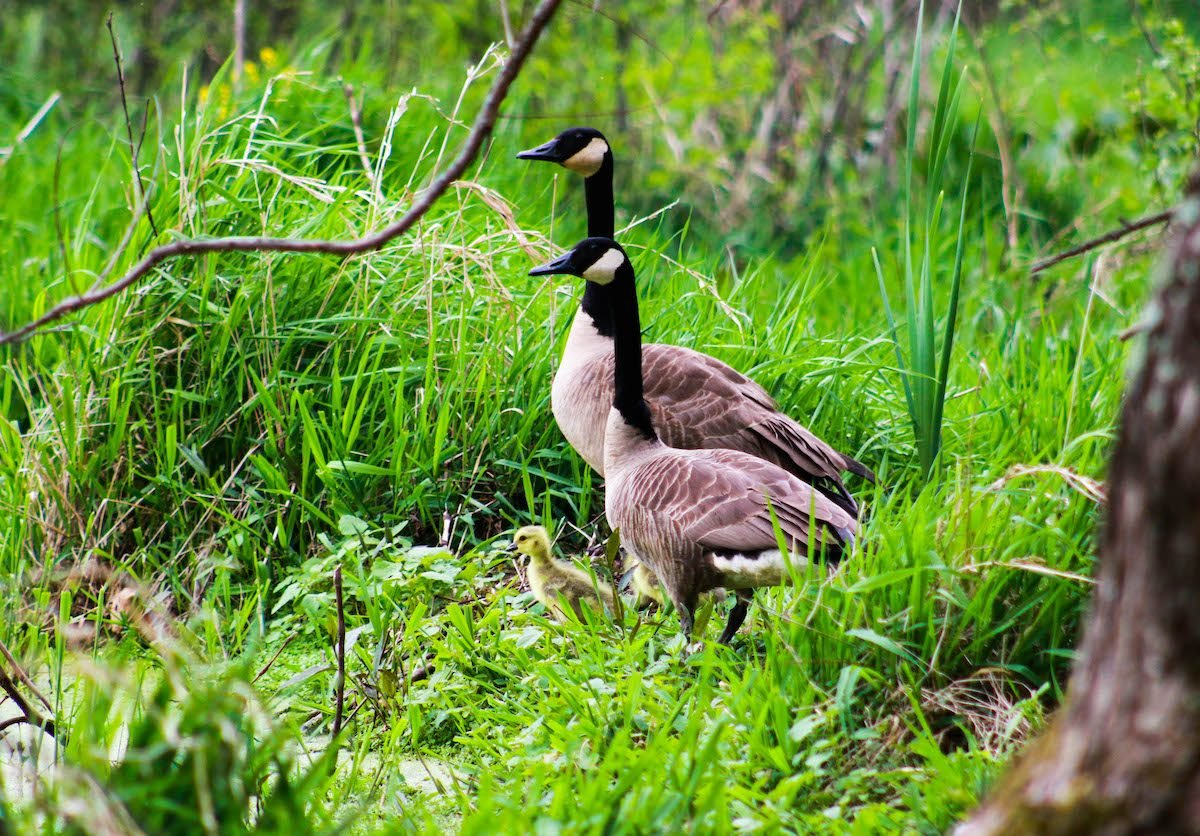goose: (516, 236, 878, 638)
